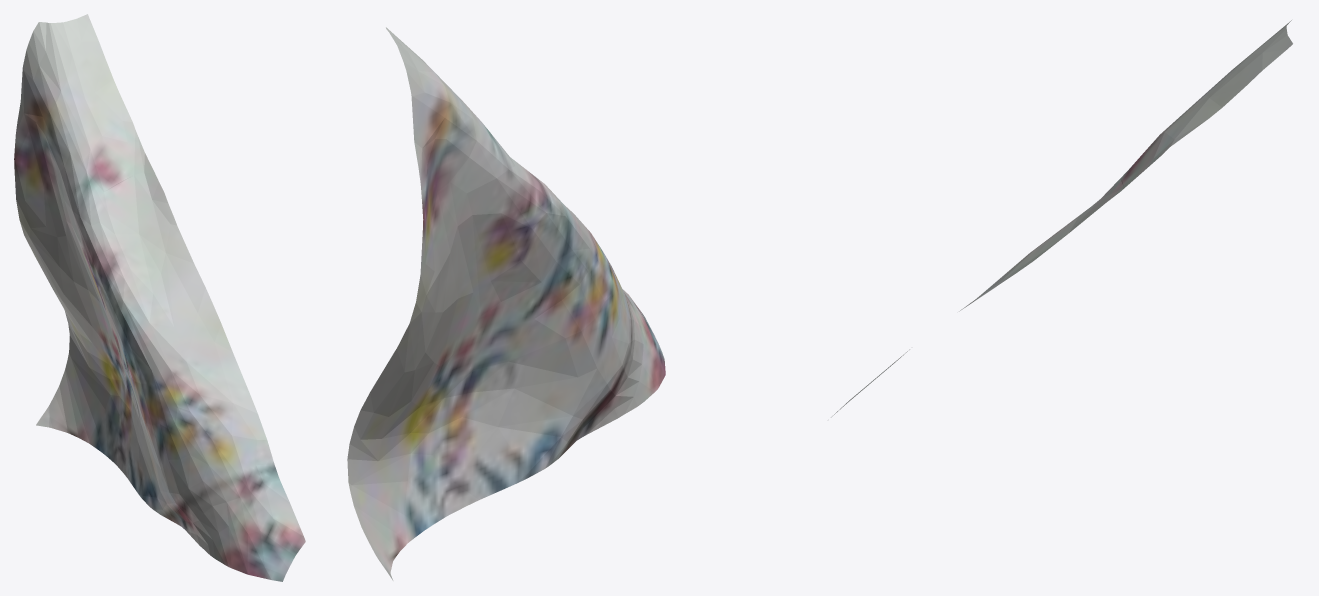
3 views of the same model, side by side, from view 1: azimuth 30°, elevation 25°; view 2: azimuth 150°, elevation 25°; view 3: azimuth 270°, elevation 25° (orthographic). The views are drawn at different scales.
Bounding box in the file's own units: 15.71 × 85.74 × 85.74.
1 material, 1 textured.
